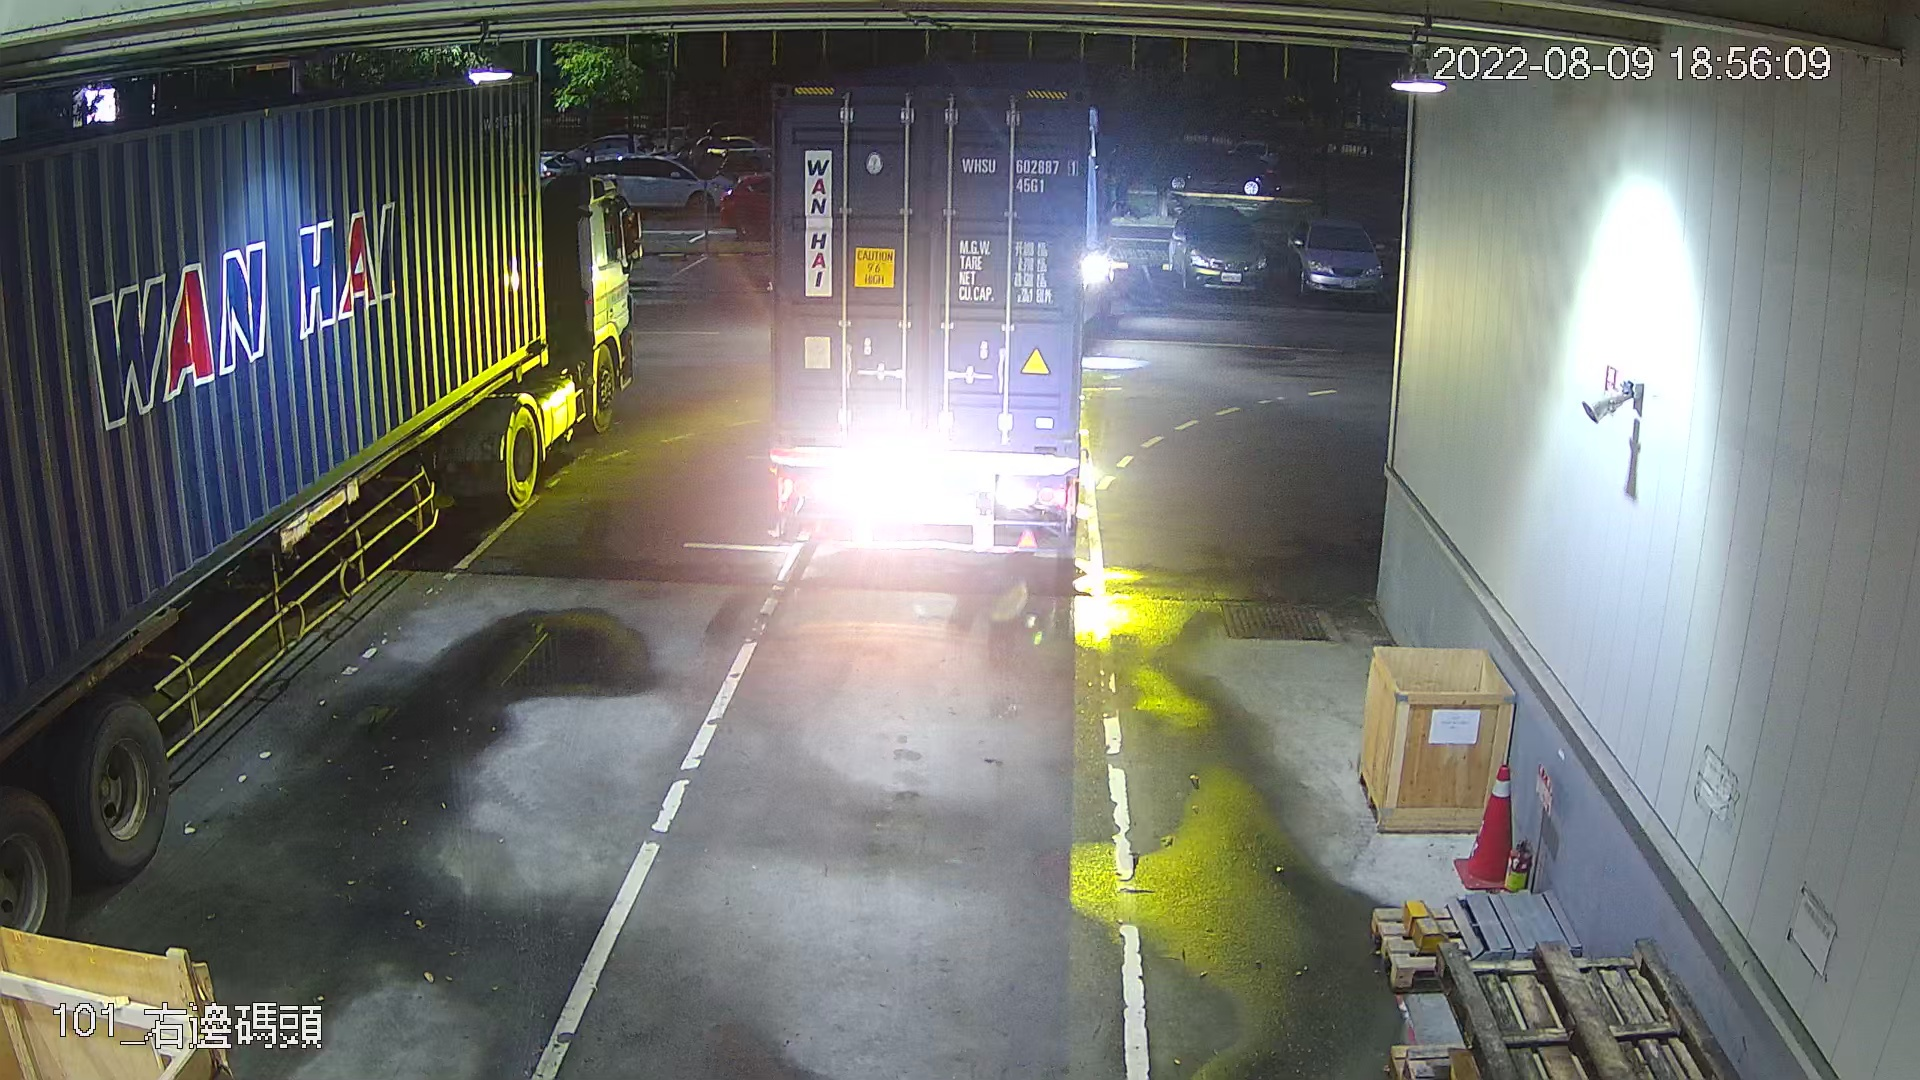container: (956, 152, 1083, 199)
